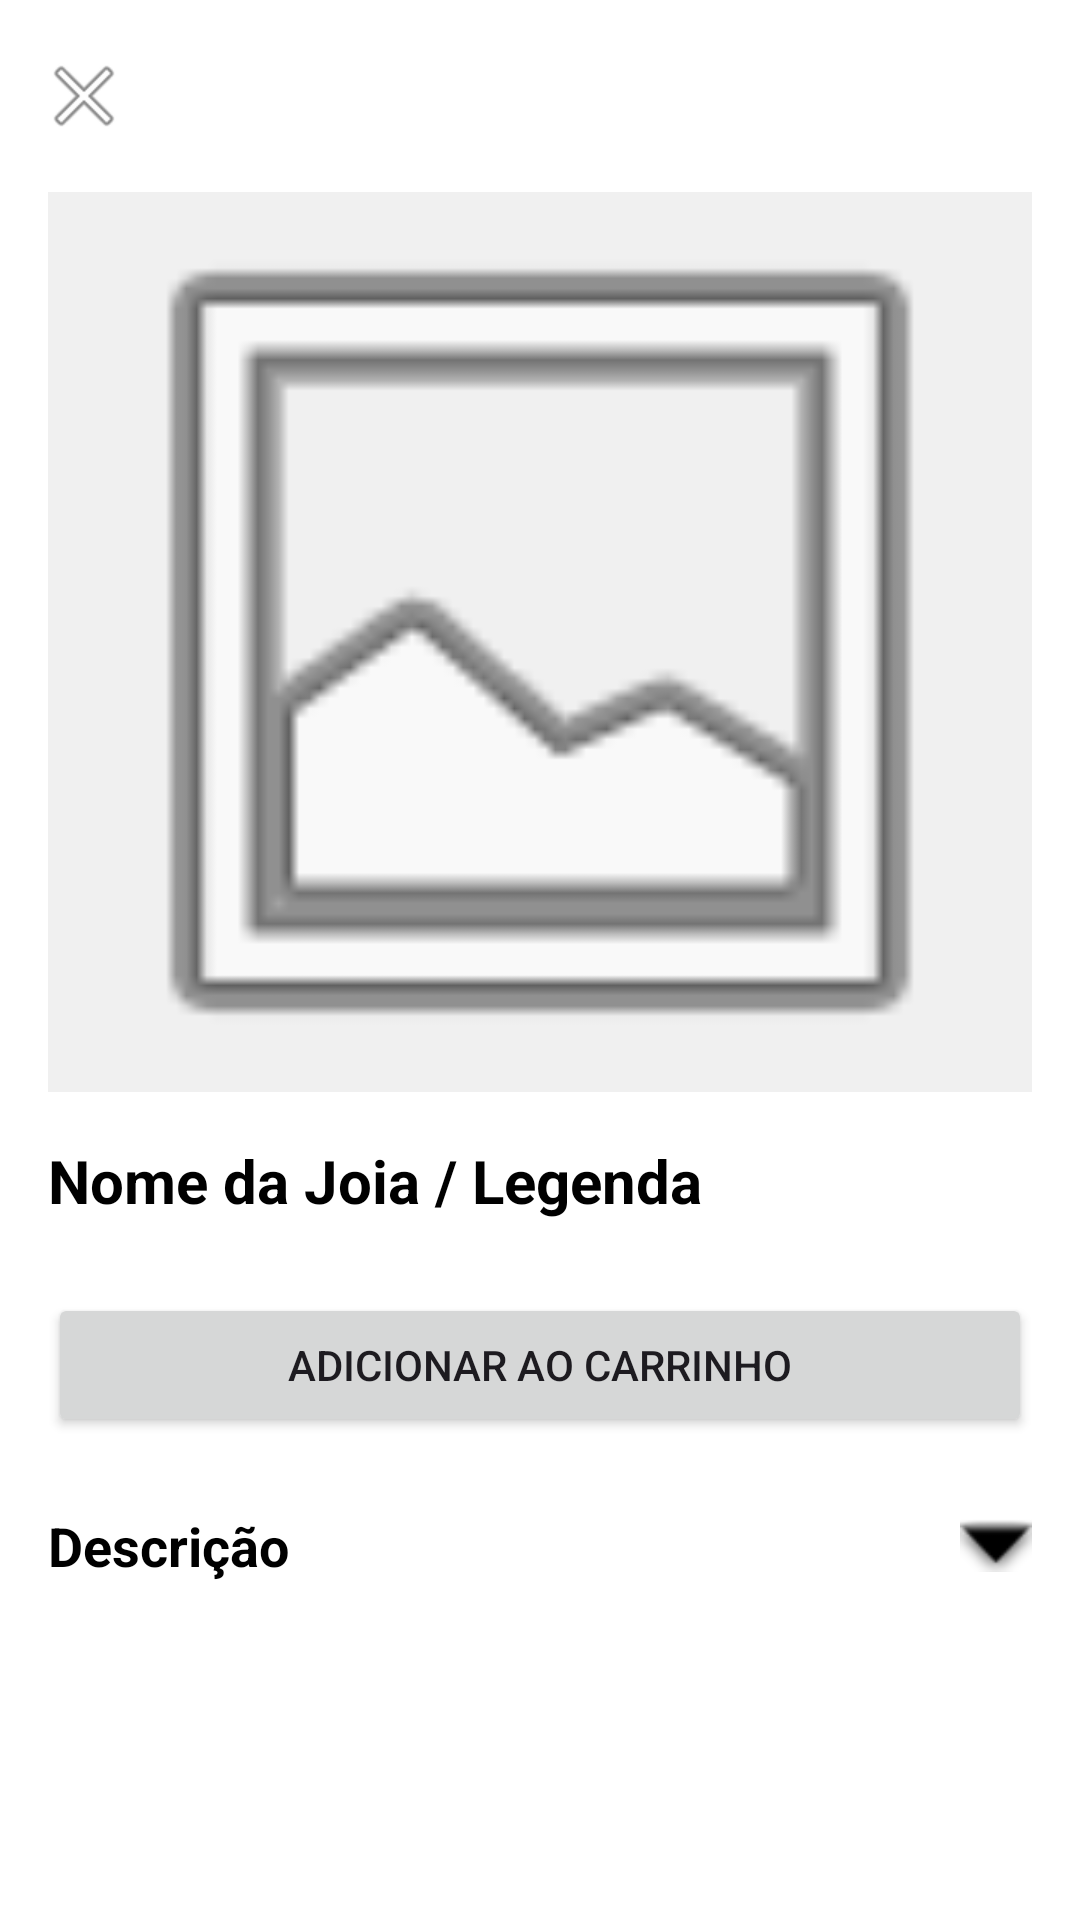

Point at icon controls on the screen. Image size 1080x1920, points as [x,y].
arrow down float: [996,1545]
